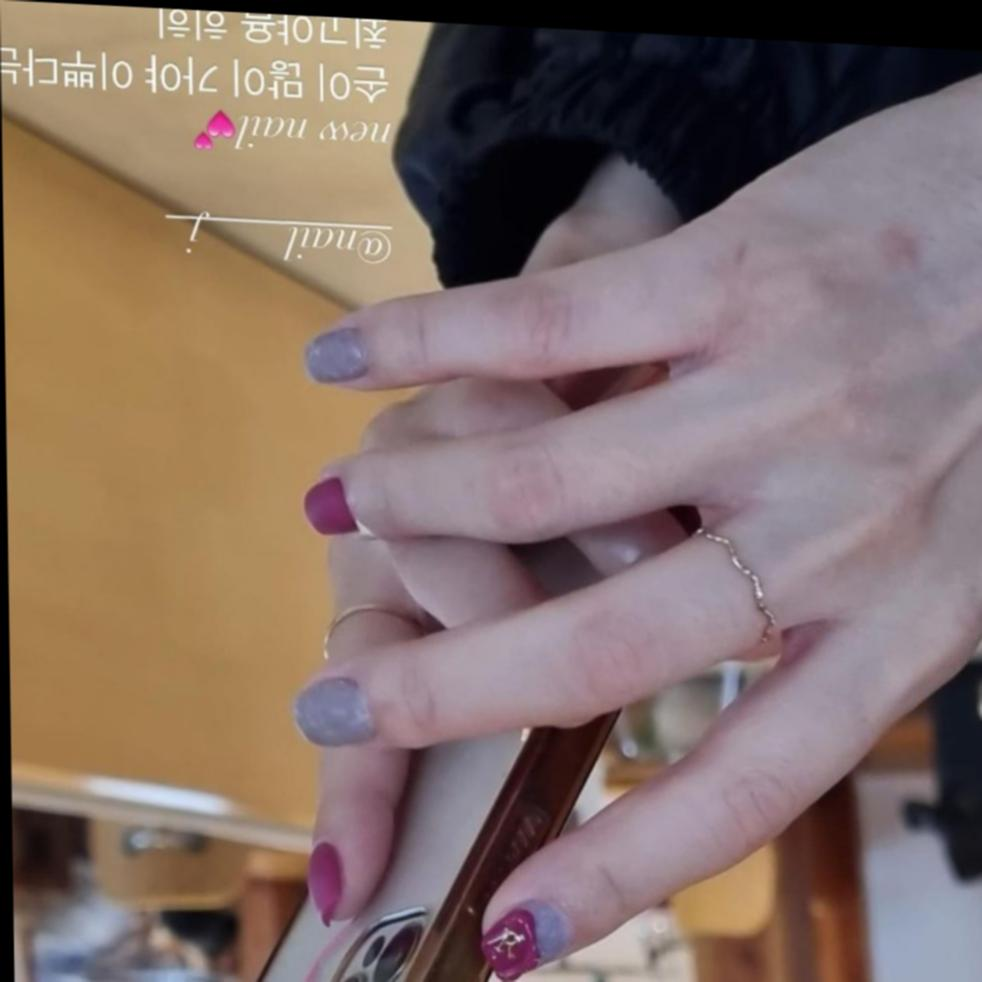nail: (293, 674, 378, 752), (481, 908, 542, 982), (305, 325, 370, 387), (304, 476, 360, 539), (308, 842, 345, 930)
